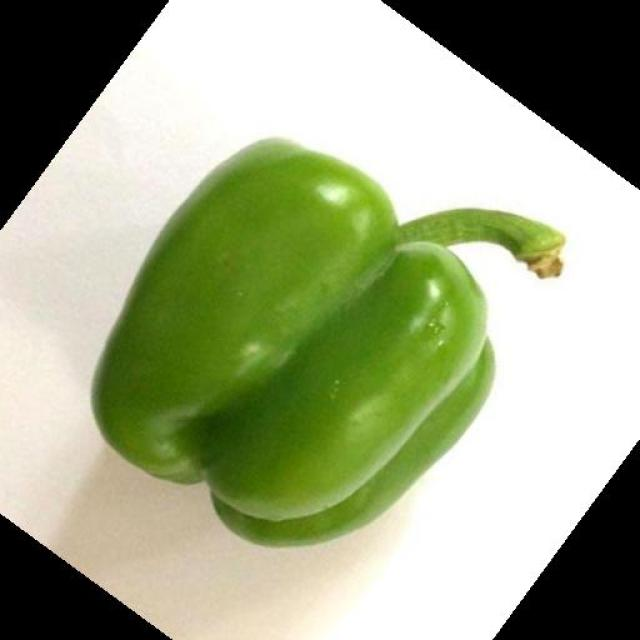Fresh_Capsicum: (151, 131, 513, 549)
